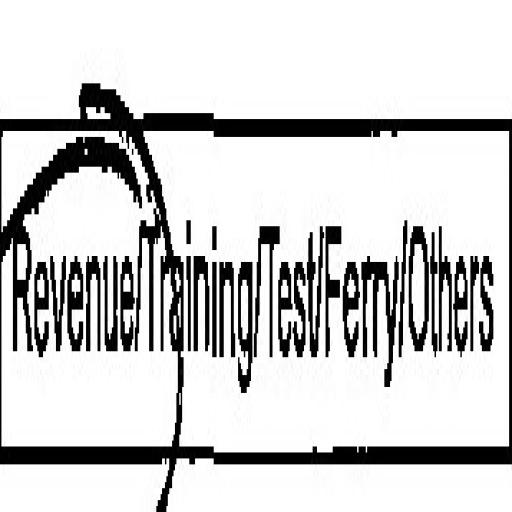check: (2, 24, 142, 512)
